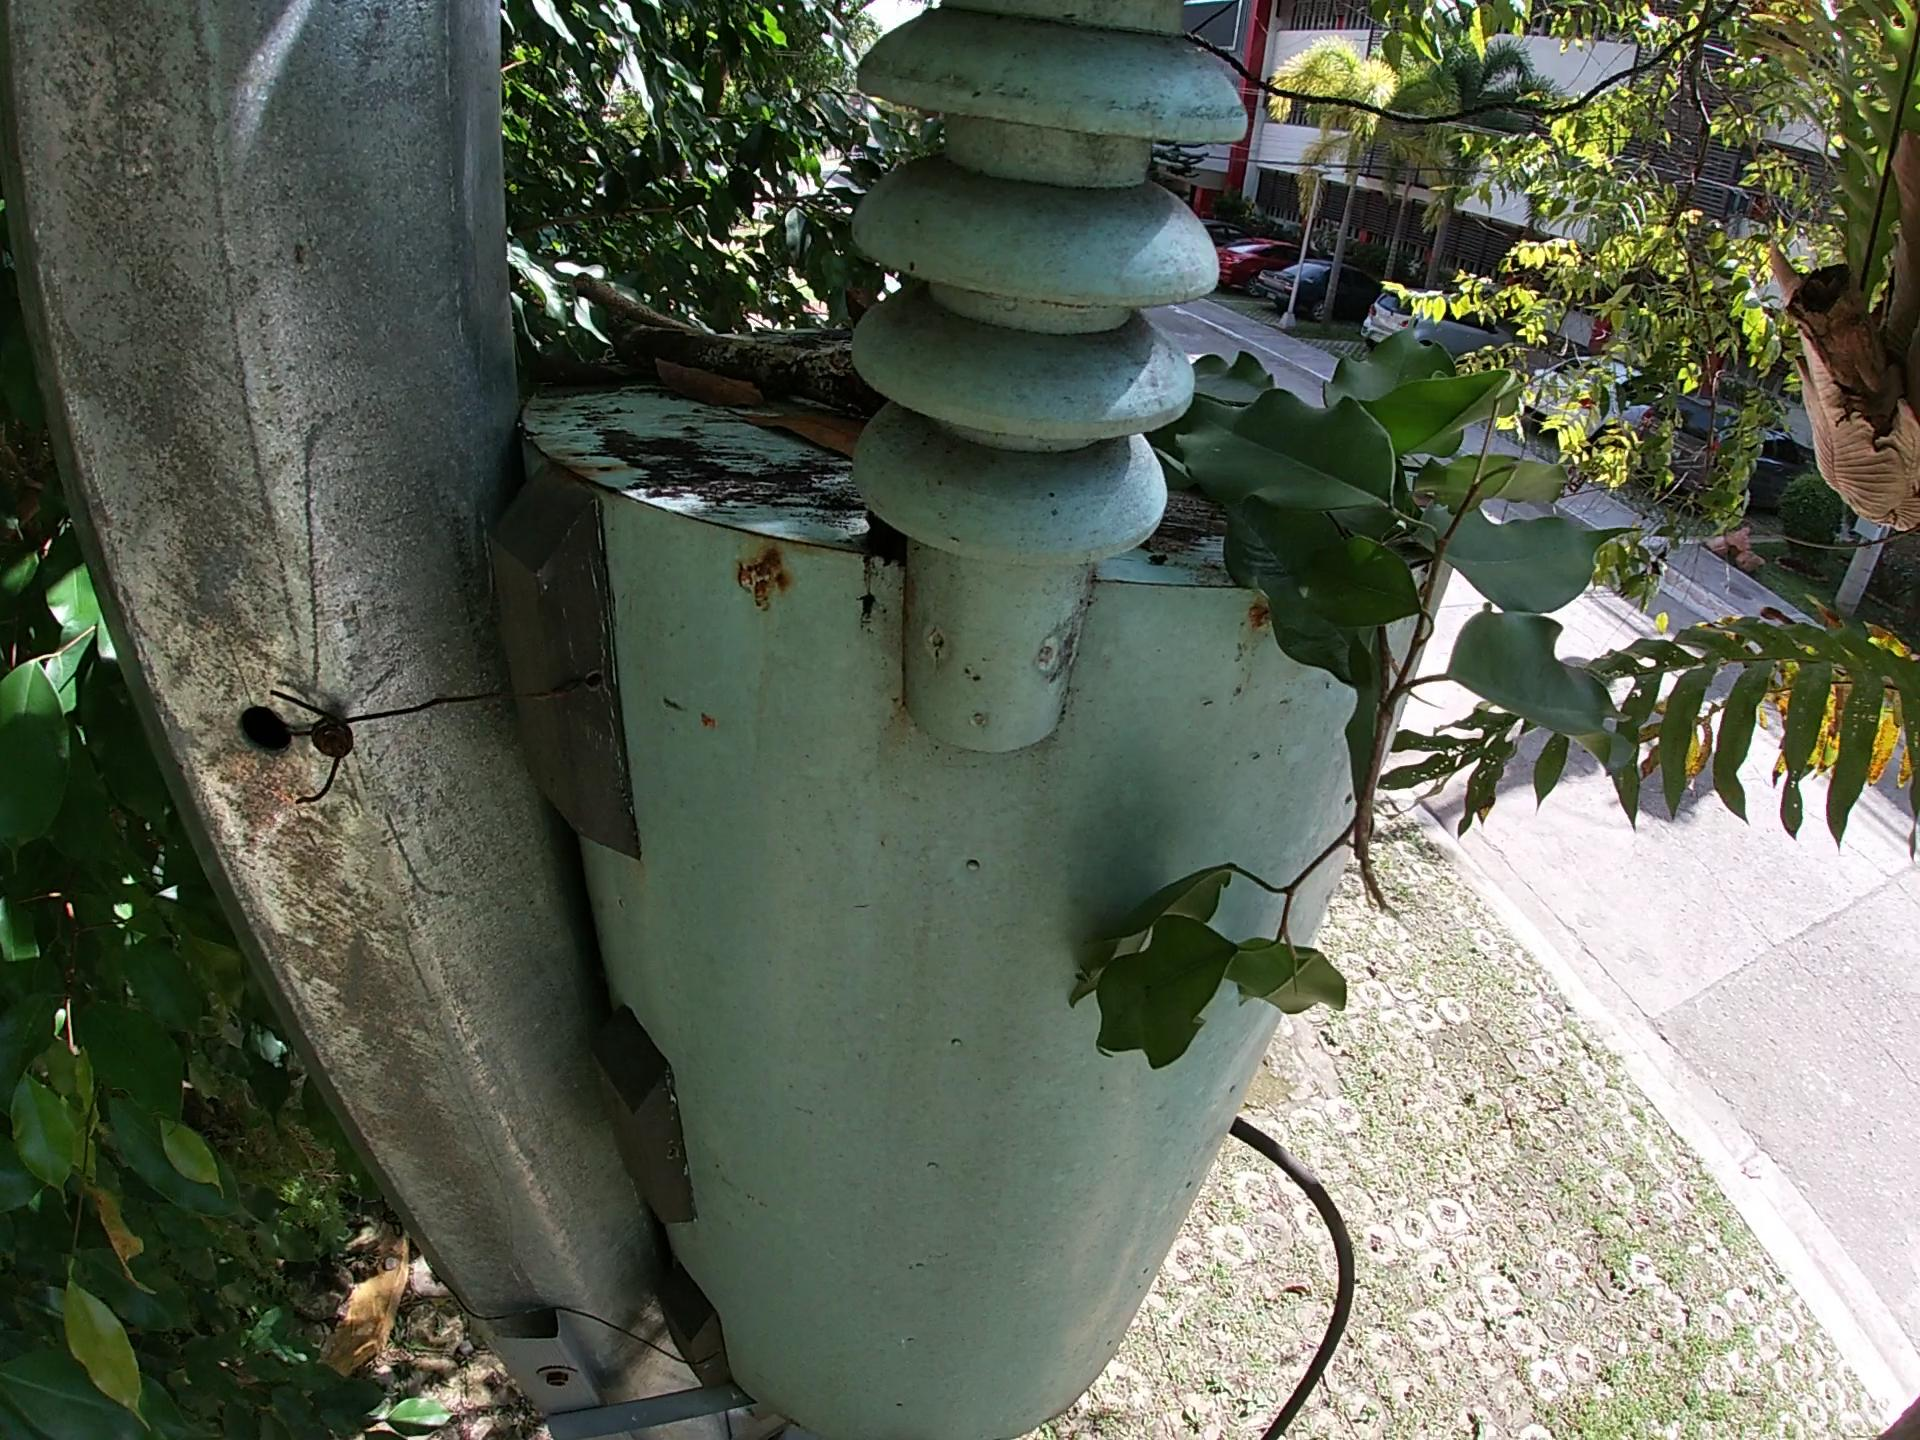branch with leaves: (1064, 318, 1658, 1074)
leaf: (720, 404, 869, 455), (647, 352, 763, 413), (525, 352, 624, 387)
tree branch: (611, 324, 877, 401), (571, 274, 695, 334)
